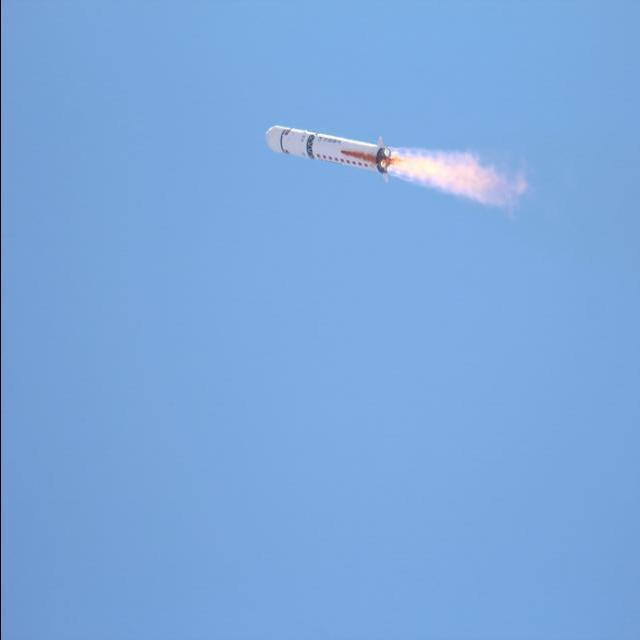missile: (262, 114, 394, 186)
